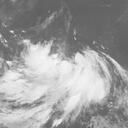cyclone: (21, 39, 112, 105)
